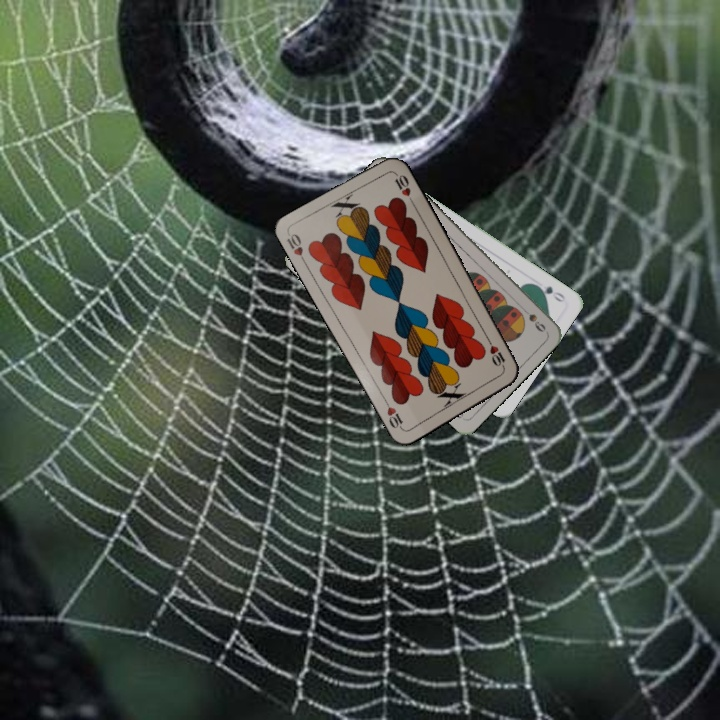GO: (530, 280, 568, 305)
H10: (283, 229, 309, 267), (483, 334, 508, 372)
S9: (516, 302, 548, 335)
